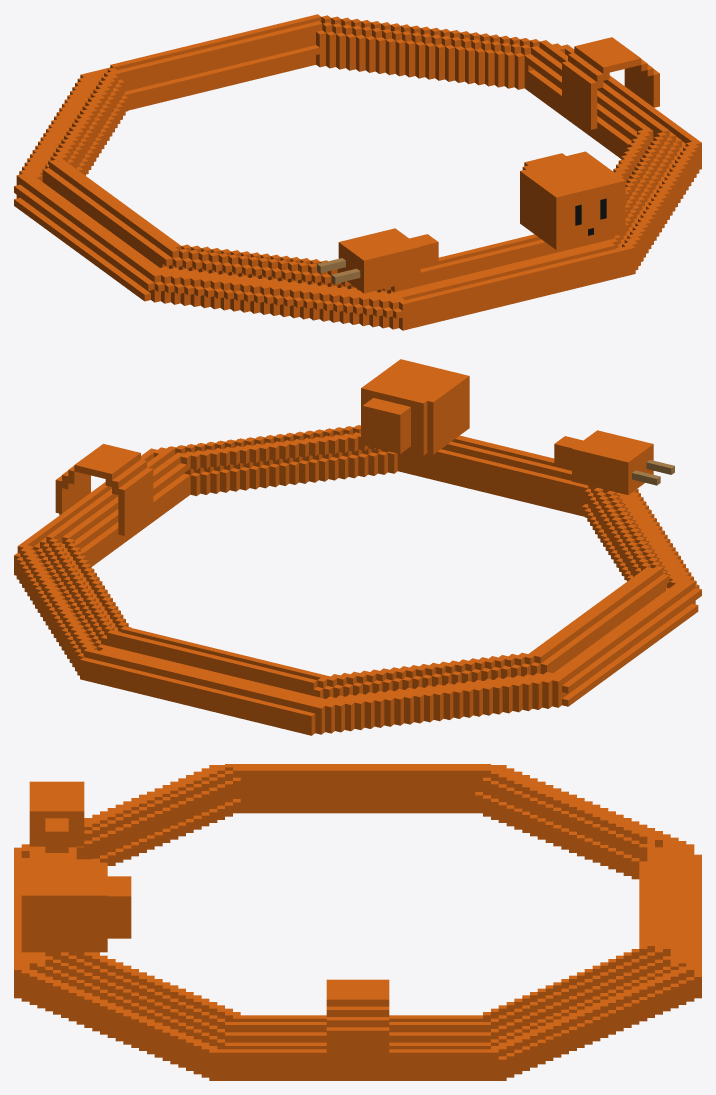
File: extension_cable.glb
3 renders of one model, top to bottom at view 1: azimuth 30°, elevation 25°; view 2: azimuth 150°, elevation 25°; view 3: azimuth 270°, elevation 25°, orthographic. The views are drawn at different scales.
Parts seen in each view (by area): view 1: extension_cable:compound; view 2: extension_cable:compound; view 3: extension_cable:compound.
Boxes of the visible parts, left/top/right/bottom form: extension_cable:compound: left=14, top=14, right=701, bottom=330; extension_cable:compound: left=14, top=359, right=701, bottom=735; extension_cable:compound: left=14, top=764, right=701, bottom=1080.
Bounding box in the file's own units: 0.36 × 0.056 × 0.352.
